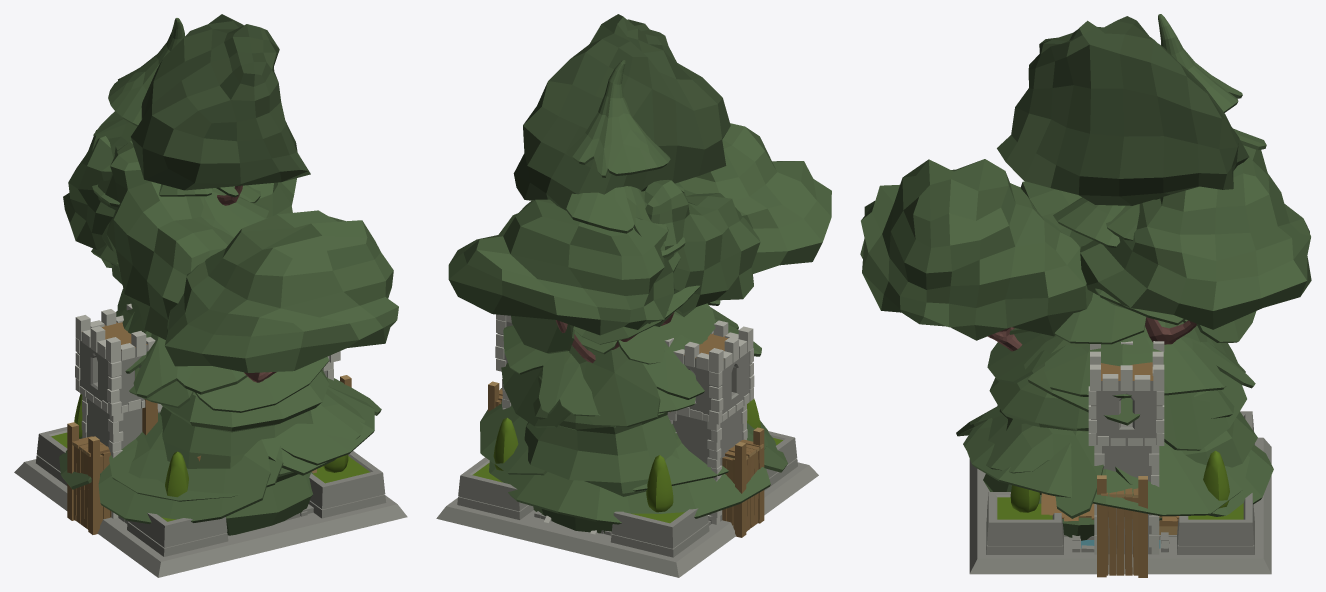
The model's file is moba.glb.
3 renders of one model, left to right at view 1: azimuth 30°, elevation 25°; view 2: azimuth 150°, elevation 25°; view 3: azimuth 270°, elevation 25°, orthographic. The views are drawn at different scales.
Parts seen in each view (by area): view 1: CommonTree_3, CommonTree_1, PineTree_3, TownCenter_SecondAge_Level3, PineTree_1, Bush_1, Barracks_SecondAge_Level3, WallTowers_FirstAge; view 2: CommonTree_1, CommonTree_3, PineTree_3, TownCenter_SecondAge_Level3, PineTree_1, Bush_1, Barracks_SecondAge_Level3, WallTowers_FirstAge; view 3: CommonTree_1, CommonTree_3, PineTree_1, PineTree_3, TownCenter_SecondAge_Level3, Barracks_SecondAge_Level3, Bush_1, WallTowers_FirstAge, TowerHouse_FirstAge.
Part boxes in pixels (left/top/right/bottom): CommonTree_3: left=98, top=14, right=310, bottom=339; CommonTree_1: left=63, top=130, right=398, bottom=382; PineTree_3: left=59, top=18, right=381, bottom=524; TownCenter_SecondAge_Level3: left=14, top=394, right=407, bottom=577; PineTree_1: left=100, top=184, right=374, bottom=501; Bush_1: left=160, top=369, right=329, bottom=535; Barracks_SecondAge_Level3: left=75, top=303, right=340, bottom=518; WallTowers_FirstAge: left=67, top=375, right=351, bottom=534; CommonTree_1: left=448, top=123, right=831, bottom=363; CommonTree_3: left=513, top=14, right=760, bottom=325; PineTree_3: left=489, top=60, right=787, bottom=524; TownCenter_SecondAge_Level3: left=436, top=398, right=818, bottom=577; PineTree_1: left=480, top=182, right=768, bottom=491; Bush_1: left=524, top=376, right=681, bottom=533; Barracks_SecondAge_Level3: left=495, top=314, right=754, bottom=534; WallTowers_FirstAge: left=488, top=381, right=764, bottom=537; CommonTree_1: left=860, top=145, right=1311, bottom=351; CommonTree_3: left=997, top=16, right=1249, bottom=248; PineTree_1: left=960, top=197, right=1255, bottom=516; PineTree_3: left=956, top=14, right=1273, bottom=518; TownCenter_SecondAge_Level3: left=969, top=411, right=1271, bottom=574; Barracks_SecondAge_Level3: left=1088, top=341, right=1164, bottom=554; Bush_1: left=983, top=377, right=1257, bottom=540; WallTowers_FirstAge: left=1097, top=475, right=1147, bottom=577; TowerHouse_FirstAge: left=1041, top=493, right=1179, bottom=539.
Bounding box in the file's own units: 2.16 × 3.51 × 2.77.
